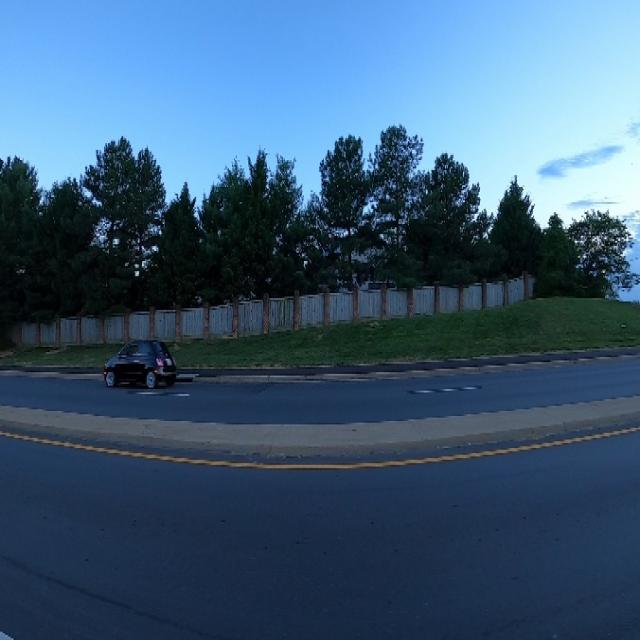car: (95, 317, 183, 401)
